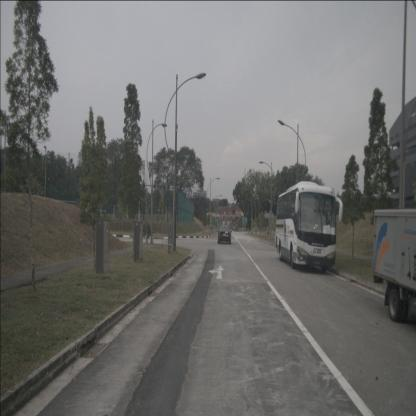vehicle-bus-rigid: (275, 180, 336, 274)
vehicle-car: (218, 225, 231, 245)
vehicle-truck: (371, 208, 416, 323)
